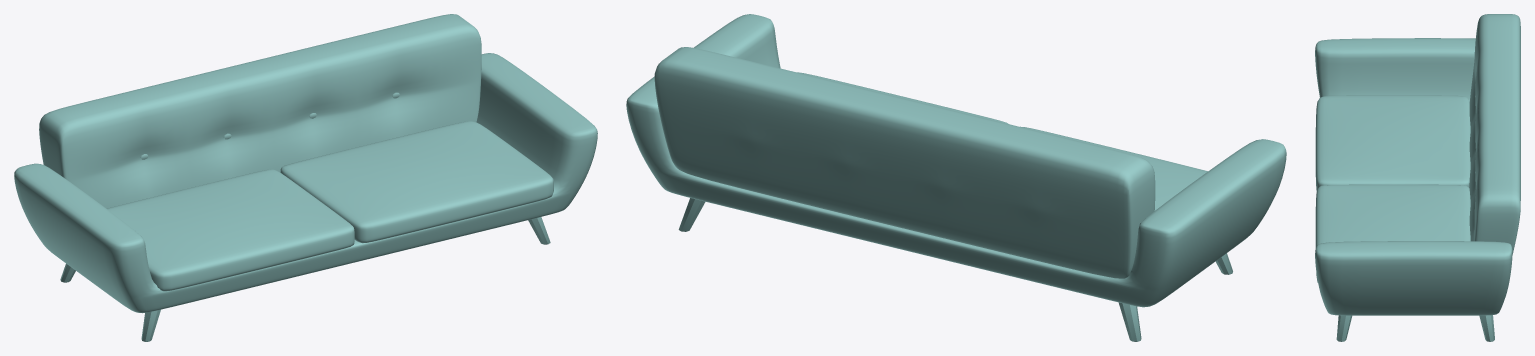
File: sofa.glb
3 renders of one model, left to right at view 1: azimuth 30°, elevation 25°; view 2: azimuth 150°, elevation 25°; view 3: azimuth 270°, elevation 25°, orthographic. The views are drawn at different scales.
Parts seen in each view (by area): view 1: Sofa_Sofa_0; view 2: Sofa_Sofa_0; view 3: Sofa_Sofa_0.
Boxes of the visible parts, x1,y1,x2,y2 form: Sofa_Sofa_0: (14,14,597,341); Sofa_Sofa_0: (626,14,1286,341); Sofa_Sofa_0: (1315,14,1520,341).
Size of the model in its own units: 1.96 by 0.6188 by 0.7823.
